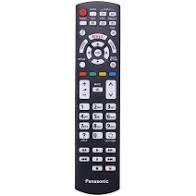remote control: (70, 0, 130, 196)
